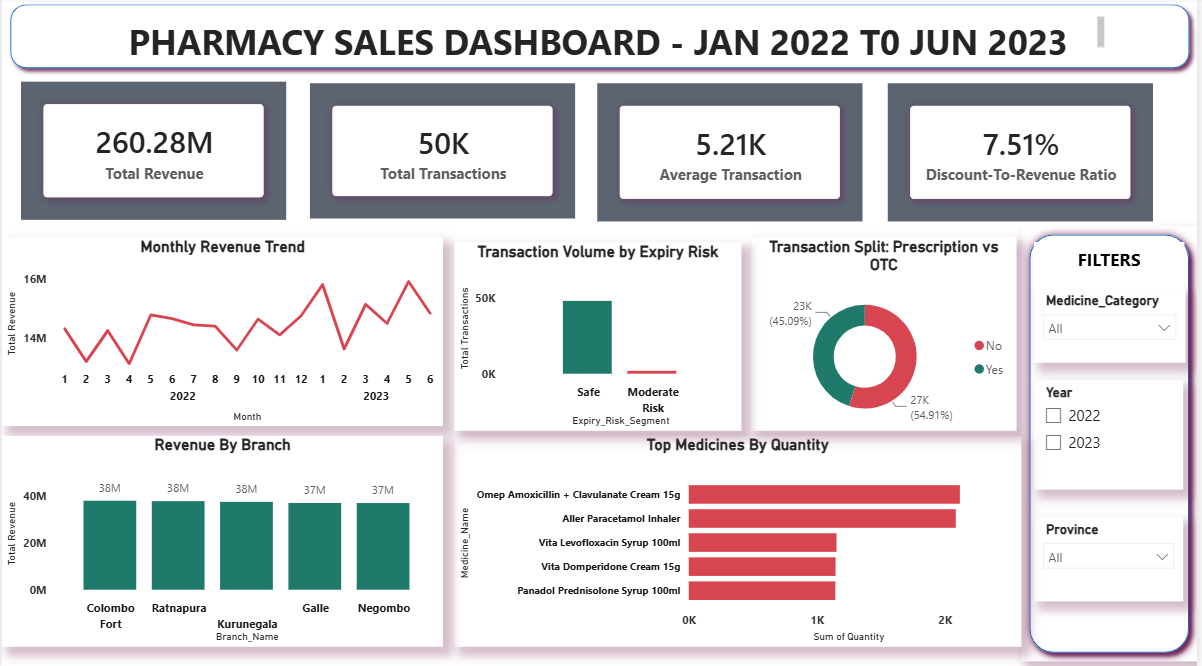

This screenshot's page, from the dashboard's own definition file:
{"tool":"powerbi","page":{"name":"Page 1","canvas":[1280,720],"ordinal":0},"visuals":[{"type":"shape","box":[0,0,1281,86.4],"z":0},{"type":"shape","box":[1091.8,246.6,188.8,466],"z":1000},{"type":"slicer","fields":{"Values":["Pharmacy_OLTP_SLStyle_18Months.Year"]},"box":[1105.4,411.5,159.9,117.3],"z":2000},{"type":"slicer","fields":{"Values":["Pharmacy_OLTP_SLStyle_18Months.Province"]},"box":[1105.4,557.8,160.1,90.6],"z":3000},{"type":"slicer","fields":{"Values":["Pharmacy_OLTP_SLStyle_18Months.Medicine_Category"]},"box":[1105.4,312.9,162.2,80.1],"z":4000},{"type":"lineChart","title":"Monthly Revenue Trend  ","fields":{"Y":["Pharmacy_OLTP_SLStyle_18Months.Total Revenue"],"Category":["Pharmacy_OLTP_SLStyle_18Months.Year","Pharmacy_OLTP_SLStyle_18Months.Month"]},"box":[0,258.5,472.8,202.4],"z":5000},{"type":"barChart","title":"Top Medicines By Quantity","fields":{"Category":["Pharmacy_OLTP_SLStyle_18Months.Medicine_Name"],"Y":["Sum(Pharmacy_OLTP_SLStyle_18Months.Quantity)"]},"box":[484.7,471.1,607.1,226.2],"z":6000},{"type":"columnChart","title":"Revenue By Branch","fields":{"Category":["Pharmacy_OLTP_SLStyle_18Months.Branch_Name"],"Y":["Pharmacy_OLTP_SLStyle_18Months.Total Revenue"]},"box":[0,471.1,472.8,226.2],"z":7000},{"type":"donutChart","title":"Transaction Split: Prescription vs OTC","fields":{"Category":["Pharmacy_OLTP_SLStyle_18Months.Prescription_Required"],"Y":["Pharmacy_OLTP_SLStyle_18Months.Total Transactions"]},"box":[802.7,258.5,284,207.5],"z":8000},{"type":"columnChart","title":"Transaction Volume by Expiry Risk","fields":{"Category":["Pharmacy_OLTP_SLStyle_18Months.Expiry_Risk_Segment"],"Y":["Pharmacy_OLTP_SLStyle_18Months.Total Transactions"]},"box":[484.7,263.6,307.6,202.3],"z":9000},{"type":"cardVisual","fields":{"Data":["Pharmacy_OLTP_SLStyle_18Months.Discount-To-Revenue Ratio"]},"box":[943.9,88.5,295,158],"z":10000},{"type":"cardVisual","fields":{"Data":["Pharmacy_OLTP_SLStyle_18Months.Total Transactions"]},"box":[324.5,88.5,295,155.9],"z":11000},{"type":"cardVisual","fields":{"Data":["Pharmacy_OLTP_SLStyle_18Months.Total Revenue"]},"box":[14.7,86.4,295,158],"z":12000},{"type":"cardVisual","fields":{"Data":["Pharmacy_OLTP_SLStyle_18Months.Average Transaction"]},"box":[632,88.5,295,158],"z":13000},{"type":"textbox","box":[1105.4,263.6,161.6,49.3],"z":14000},{"type":"textbox","box":[99,16.9,1087.1,50.6],"z":15000}]}

Visuals, with their boxes in screenshot pixels (x1, y1, x2, y2), scaled from the page's 1280x720 canvas onto the 1202x666 screenshot:
shape: 0 0 1201 80
shape: 1025 228 1201 659
slicer - Pharmacy_OLTP_SLStyle_18Months.Year: 1038 381 1188 489
slicer - Pharmacy_OLTP_SLStyle_18Months.Province: 1038 516 1188 600
slicer - Pharmacy_OLTP_SLStyle_18Months.Medicine_Category: 1038 289 1190 364
"Monthly Revenue Trend  " lineChart: 0 239 444 426
"Top Medicines By Quantity" barChart: 455 436 1025 645
"Revenue By Branch" columnChart: 0 436 444 645
"Transaction Split: Prescription vs OTC" donutChart: 754 239 1020 431
"Transaction Volume by Expiry Risk" columnChart: 455 244 744 431
cardVisual - Pharmacy_OLTP_SLStyle_18Months.Discount-To-Revenue Ratio: 886 82 1163 228
cardVisual - Pharmacy_OLTP_SLStyle_18Months.Total Transactions: 305 82 582 226
cardVisual - Pharmacy_OLTP_SLStyle_18Months.Total Revenue: 14 80 291 226
cardVisual - Pharmacy_OLTP_SLStyle_18Months.Average Transaction: 593 82 871 228
textbox: 1038 244 1190 289
textbox: 93 16 1114 62
